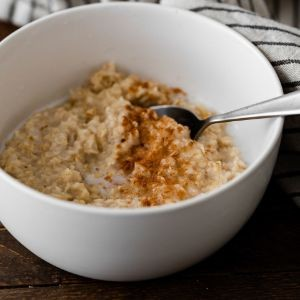oat_brain food: (31, 114, 192, 179)
